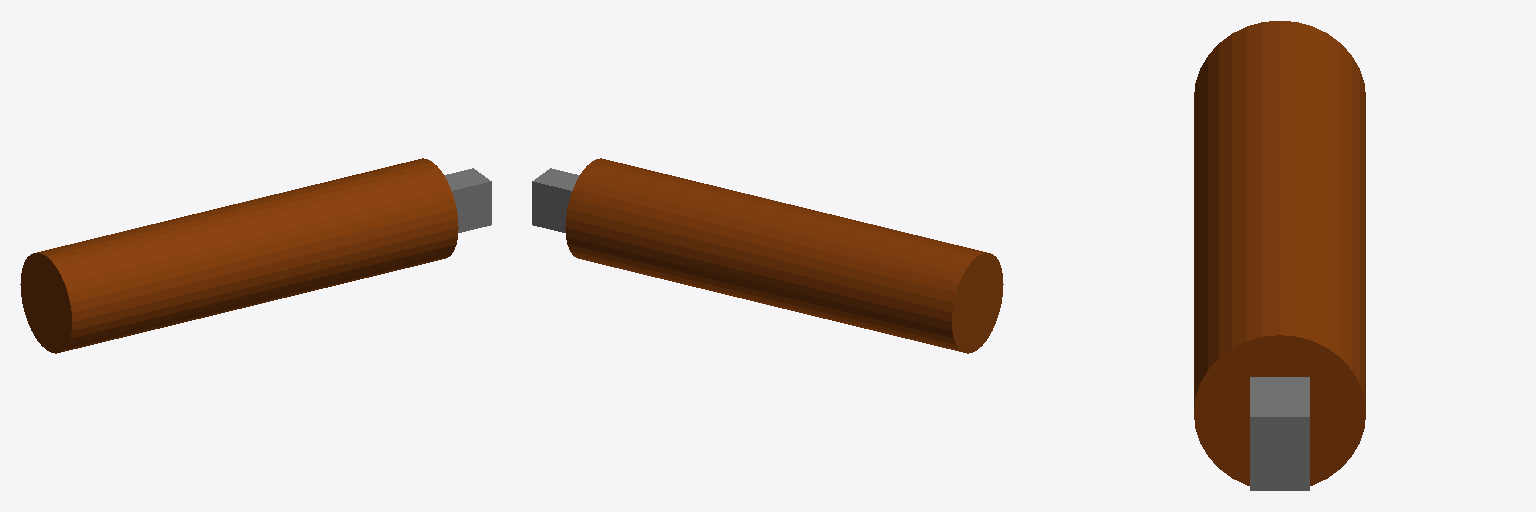
URDF robot description (handle_head):
<?xml version="1.0"?>
<robot name="handle_head">

  <link name="handle_head">
    <!-- Handle -->
    <visual>
              <origin xyz="0 0 0" rpy="0 -1.5707963267948966 0"/>
        <geometry>
          <cylinder length="0.09145092261951922" radius="0.010597588026590004"/>
        </geometry>
        
      <material name="brown">
        <color rgba="0.55 0.27 0.07 1.0"/>
      </material>
    </visual>
    <collision>
              <origin xyz="0 0 0" rpy="0 -1.5707963267948966 0"/>
        <geometry>
          <cylinder length="0.09145092261951922" radius="0.010597588026590004"/>
        </geometry>
        
    </collision>

    <!-- Head -->
    <visual>
              <origin xyz="0.051614451526240904 0 0" rpy="0 0 0"/>
        <geometry>
          <box size="0.011777980432962585 0.0073964492984009075 0.00993775247118835"/>
        </geometry>
        
      <material name="gray">
        <color rgba="0.5 0.5 0.5 1.0"/>
      </material>
    </visual>
    <collision>
              <origin xyz="0.051614451526240904 0 0" rpy="0 0 0"/>
        <geometry>
          <box size="0.011777980432962585 0.0073964492984009075 0.00993775247118835"/>
        </geometry>
        
    </collision>

    <inertial>
      <origin xyz="0.0007169848147082658 0 0" rpy="0 0 0"/>
      <mass value="0.02240128152914363"/>
      <inertia ixx="1.2112342735508898e-06" iyy="2.2084386843130643e-05" izz="2.2083244515753936e-05" ixy="0" ixz="0" iyz="0"/>
    </inertial>
  </link>

</robot>

--- Facts derived from the render (not from the file) ---
3 views of the same robot in one strip: view 1: azimuth 30°, elevation 25°; view 2: azimuth 150°, elevation 25°; view 3: azimuth 270°, elevation 25° (orthographic).
Model handle_head with 1 links and 0 joints (none), rooted at handle_head, posed every joint at zero.
Visible links, largest first — view 1: handle_head; view 2: handle_head; view 3: handle_head.
Link boxes in pixels (x1,y1,x2,y2): handle_head: [20, 158, 491, 353]; handle_head: [532, 158, 1003, 353]; handle_head: [1194, 21, 1365, 490].
Size in the robot's own frame: 0.1032 by 0.0212 by 0.0212 metres.
Geometry: primitives only (box / cylinder / sphere), no mesh files.
